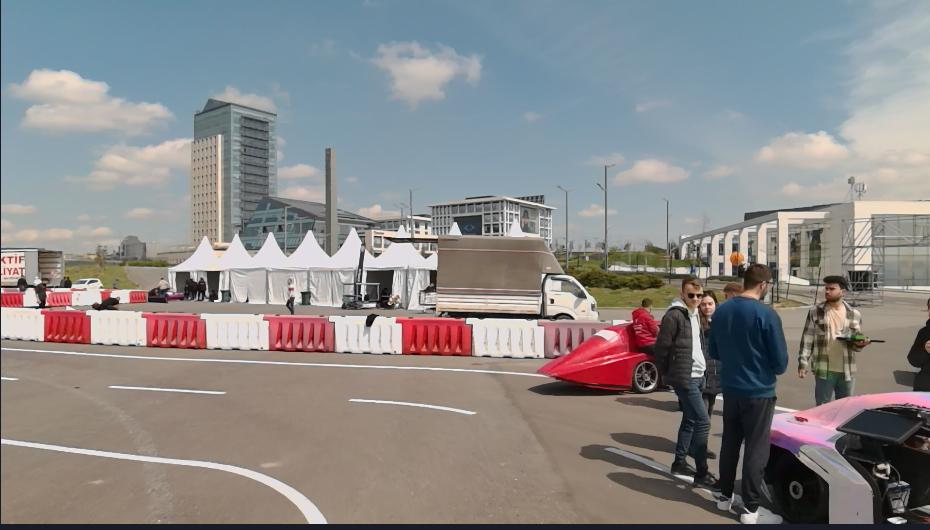nesne: (0, 341, 751, 524), (0, 343, 745, 522), (1, 372, 742, 523), (1, 309, 611, 357), (2, 437, 325, 523), (763, 393, 930, 530), (707, 260, 787, 524), (384, 235, 596, 316), (0, 344, 540, 373), (656, 275, 714, 491), (793, 274, 883, 405), (542, 321, 659, 393), (340, 240, 399, 309), (698, 291, 723, 418), (633, 297, 669, 383), (468, 319, 544, 357), (334, 314, 401, 355), (544, 317, 611, 358), (399, 317, 471, 355), (0, 248, 63, 287), (269, 314, 333, 352), (350, 395, 476, 414), (144, 311, 205, 348), (907, 296, 929, 395), (206, 314, 267, 349), (89, 309, 145, 346), (106, 381, 225, 396), (42, 310, 89, 342), (0, 309, 45, 340), (148, 272, 184, 303), (420, 280, 437, 308), (721, 280, 744, 300), (90, 295, 122, 309), (32, 282, 48, 309), (73, 289, 100, 305), (283, 277, 294, 313), (73, 277, 103, 290), (49, 290, 73, 306), (0, 292, 22, 308), (183, 275, 197, 300), (157, 275, 168, 302), (196, 275, 206, 300), (365, 311, 380, 327), (56, 274, 73, 288), (111, 289, 129, 302), (128, 289, 146, 301), (14, 274, 27, 288), (32, 273, 41, 288), (220, 289, 229, 302), (208, 290, 217, 303), (0, 373, 18, 379), (301, 291, 309, 304)
